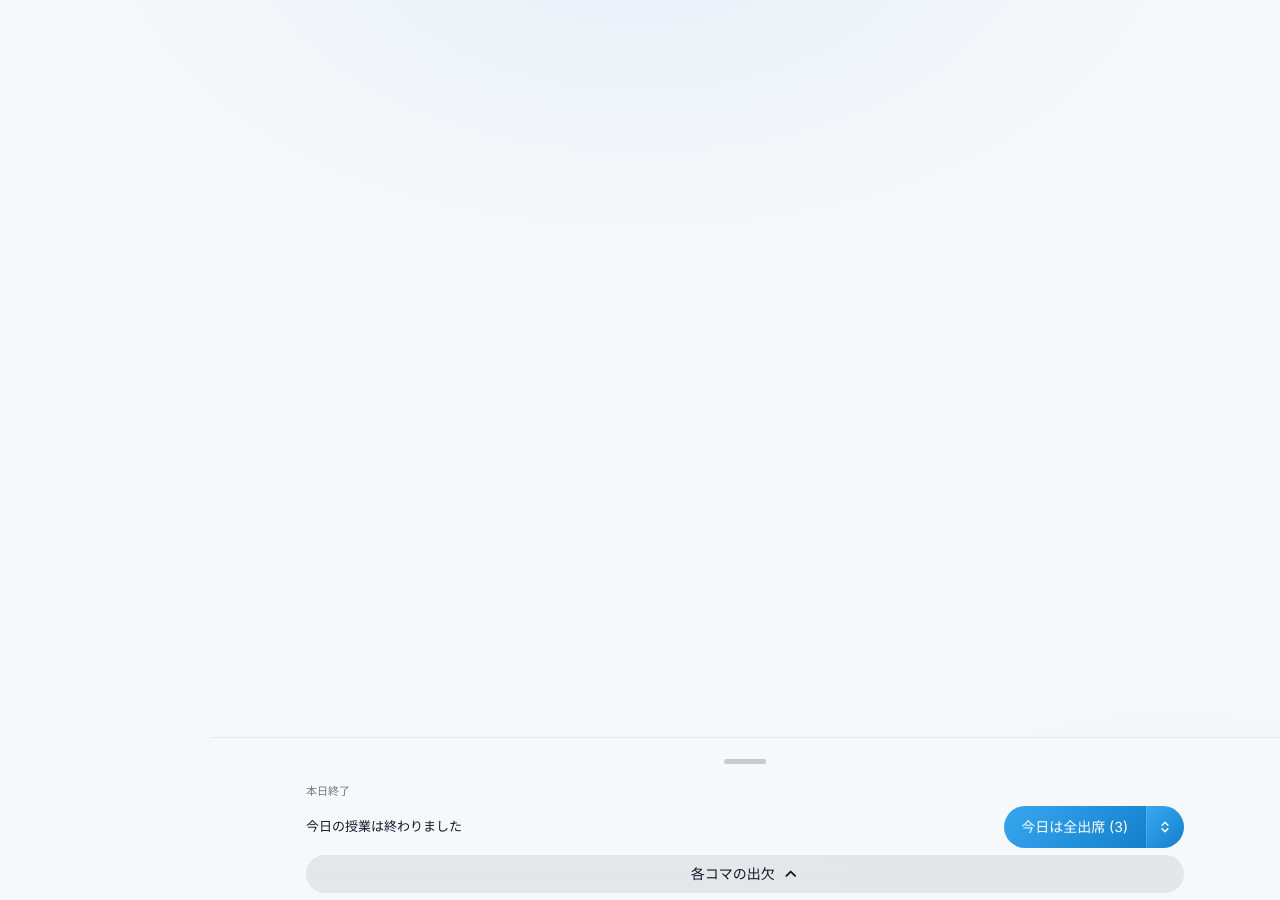
Scenario: MainAttendanceCTA bulk status menu › shows the four non-present, non-cancelled menu items in order
What coordinates should you click on to do the following:
click the button named "一括記録のステータスを選ぶ"
I would click on:
 (1165, 826)
Its box is [1146, 806, 1184, 848].
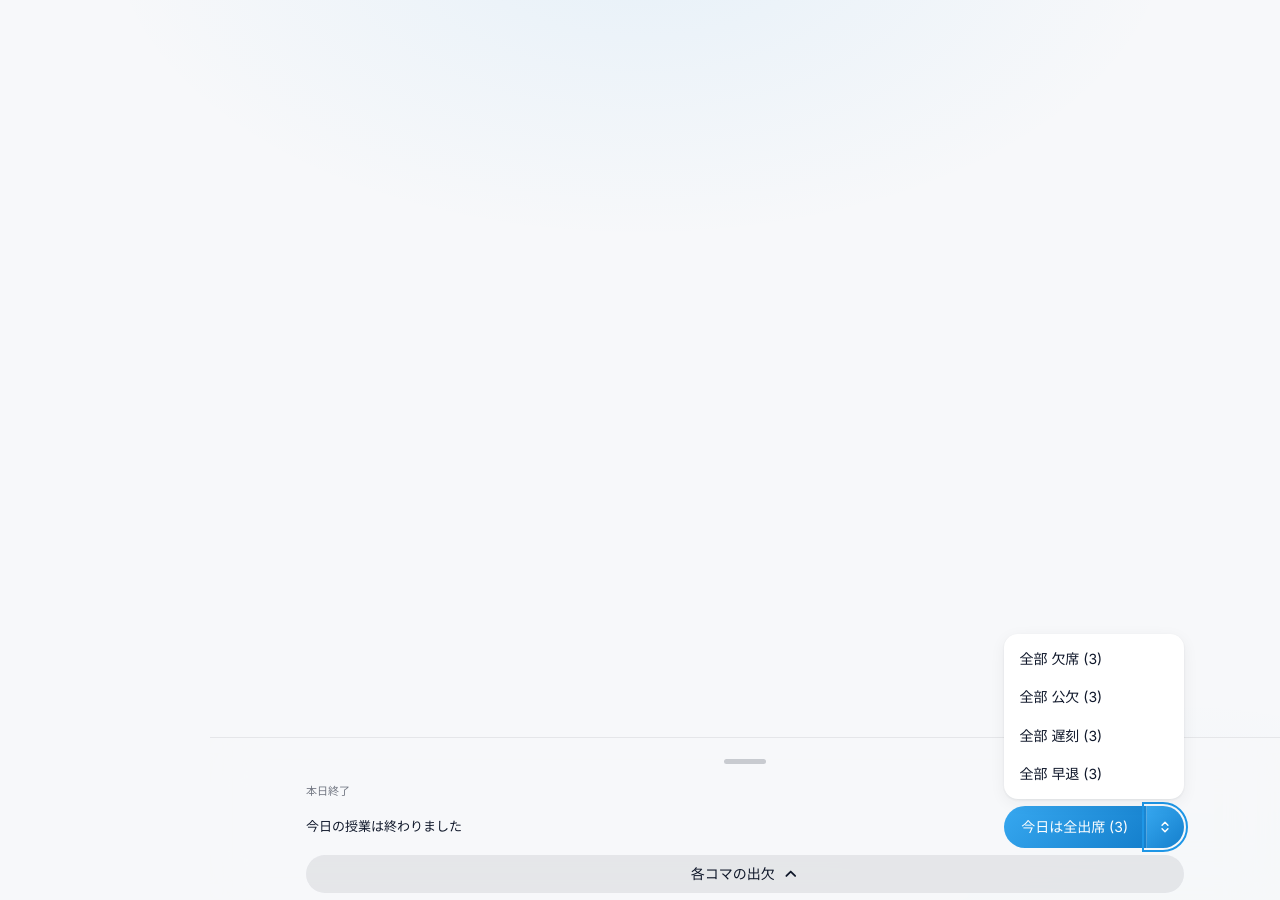
expect the number of menu items is 4: met, box [1009, 639, 1179, 678]; [1009, 678, 1179, 716]; [1009, 716, 1179, 755]; [1009, 755, 1179, 793]
expect the menu items read "全部 欠席 (3)", "全部 公欠 (3)", "全部 遅刻 (3)", "全部 早退 (3)", in this order: met, box [1009, 639, 1179, 678]; [1009, 678, 1179, 716]; [1009, 716, 1179, 755]; [1009, 755, 1179, 793]
